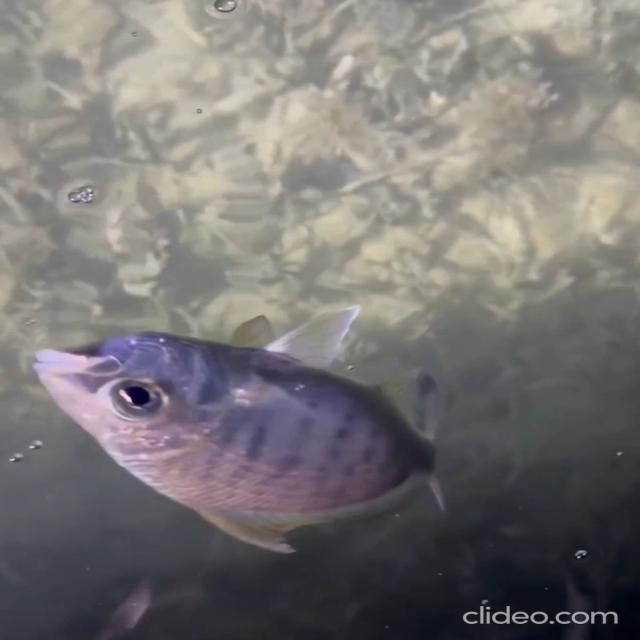fish: (25, 290, 460, 560)
